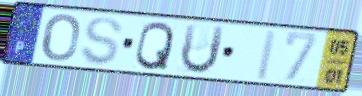7: (282, 30, 322, 85)
I: (253, 28, 281, 83)
O: (40, 12, 82, 63)
Q: (133, 19, 177, 72)
S: (79, 15, 125, 68)
U: (177, 22, 227, 76)
